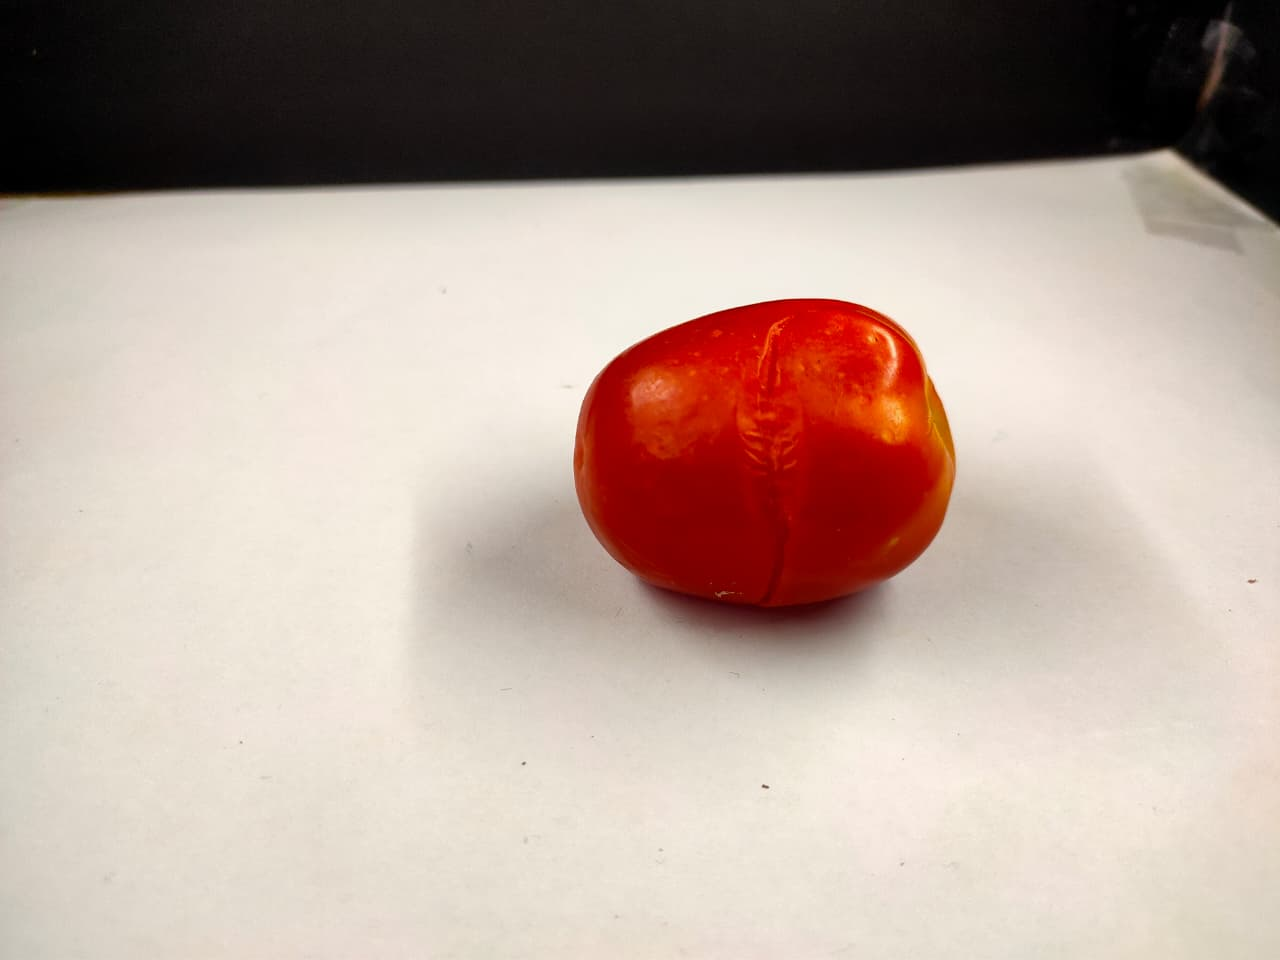damaged: (577, 289, 961, 629)
